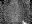person: (21, 20, 28, 24)
